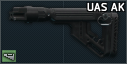AKM%5AK-74 FAB Defense UAS stock: (0, 0, 127, 64)
